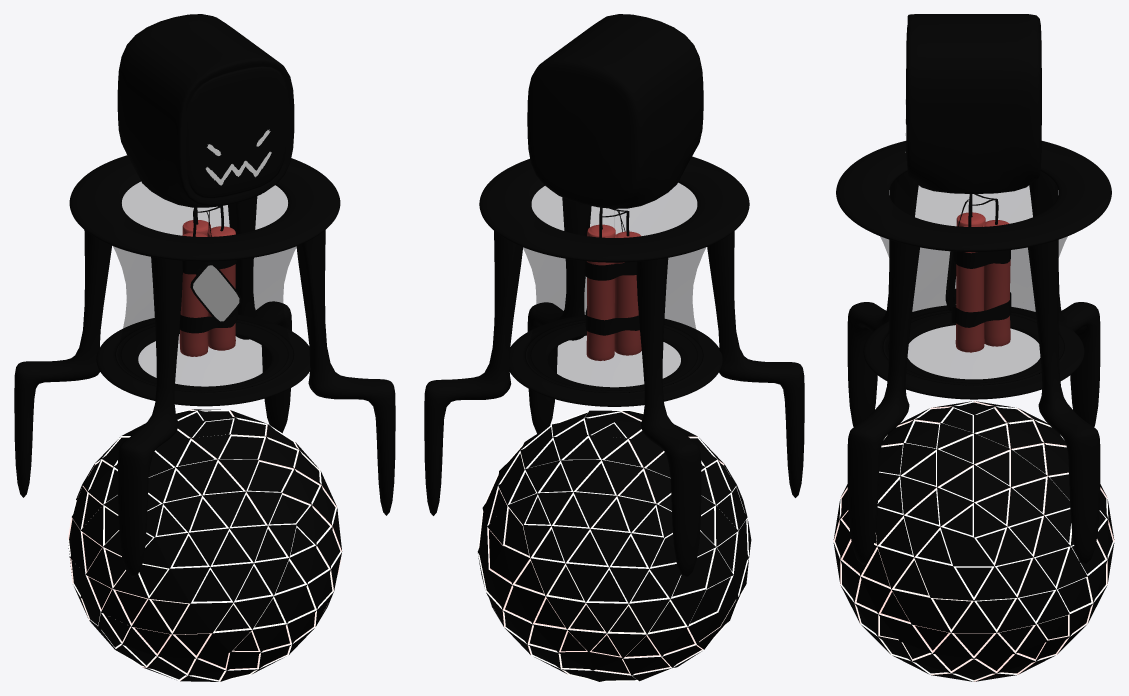
The model's file is ExploBotV2.fbx.
The picture shows the model from 3 angles, left to right: view 1: azimuth 30°, elevation 25°; view 2: azimuth 150°, elevation 25°; view 3: azimuth 270°, elevation 25°; orthographic projection. The views are drawn at different scales.
Parts seen in each view (by area): view 1: Explobot, Ball, glass, TNT, TNTscreen, ExplobotFace; view 2: Explobot, Ball, glass, TNT; view 3: Explobot, Ball, glass, TNT.
Boxes of the visible parts, x1=… form: Explobot: x1=14, y1=14, x2=395, y2=577; Ball: x1=67, y1=409, x2=342, y2=681; glass: x1=113, y1=182, x2=296, y2=391; TNT: x1=179, y1=206, x2=241, y2=356; TNTscreen: x1=193, y1=265, x2=239, y2=321; ExplobotFace: x1=205, y1=129, x2=271, y2=185; Explobot: x1=424, y1=14, x2=804, y2=577; Ball: x1=477, y1=410, x2=751, y2=681; glass: x1=523, y1=183, x2=706, y2=391; TNT: x1=584, y1=207, x2=641, y2=360; Explobot: x1=836, y1=14, x2=1111, y2=564; Ball: x1=833, y1=401, x2=1114, y2=681; glass: x1=880, y1=180, x2=1067, y2=384; TNT: x1=945, y1=194, x2=1011, y2=352.
Bounding box in the file's own units: 182 × 402 × 159.
